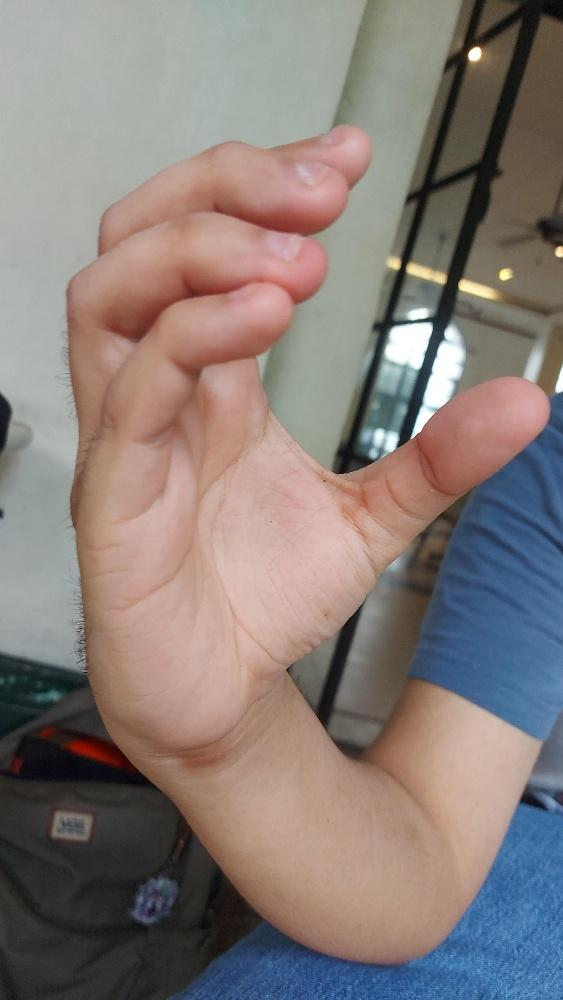c: (65, 123, 550, 749)
